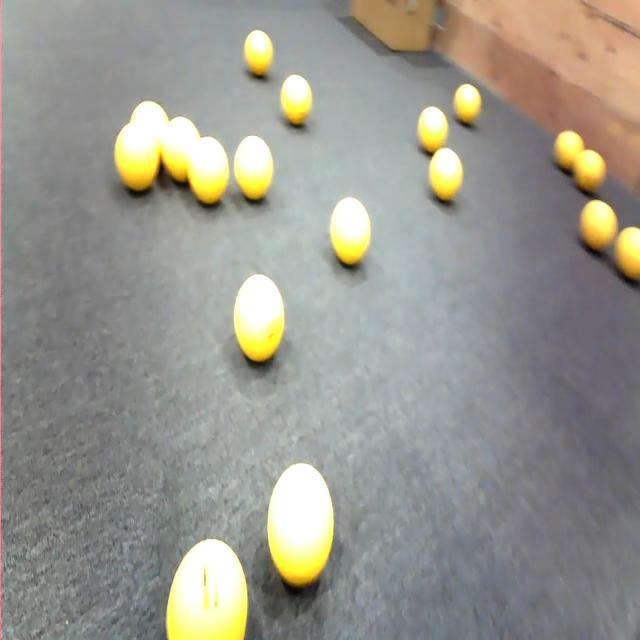fuel: (267, 464, 333, 588), (166, 540, 247, 639), (234, 274, 284, 362), (114, 123, 159, 191), (188, 136, 229, 205), (330, 197, 370, 265), (161, 116, 199, 183), (234, 136, 273, 200), (580, 200, 617, 252), (429, 148, 463, 201), (130, 101, 168, 143), (281, 75, 312, 126), (418, 106, 448, 153), (573, 150, 606, 192), (244, 30, 274, 76), (615, 227, 639, 281), (554, 131, 584, 171), (453, 84, 481, 125)
